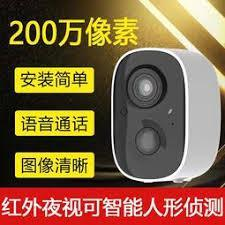tutu: (109, 46, 222, 185)
